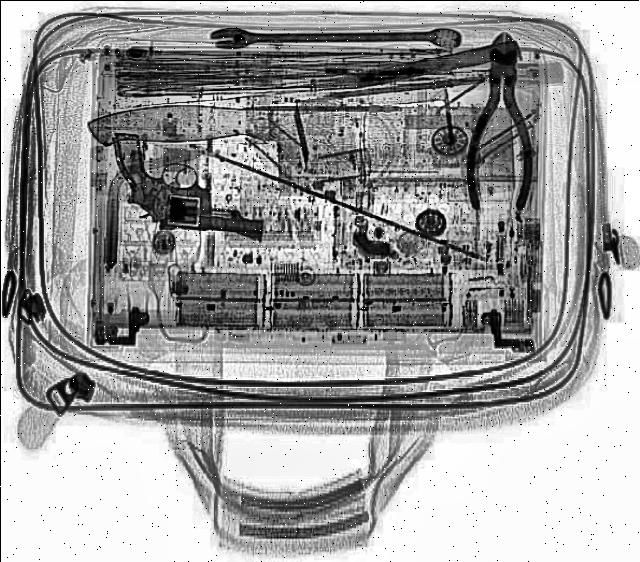Gun: (104, 133, 274, 241)
Knife: (90, 103, 516, 202)
Pliers: (464, 31, 540, 211)
Wrench: (208, 26, 464, 52)
